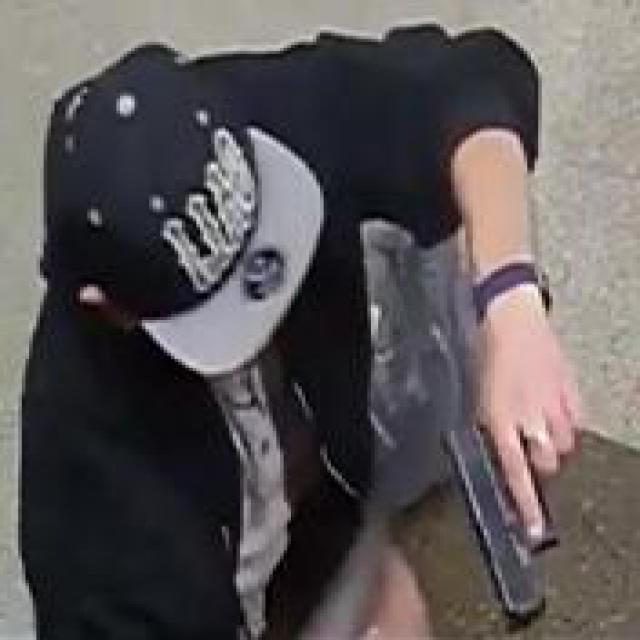weapon: (436, 419, 558, 623)
